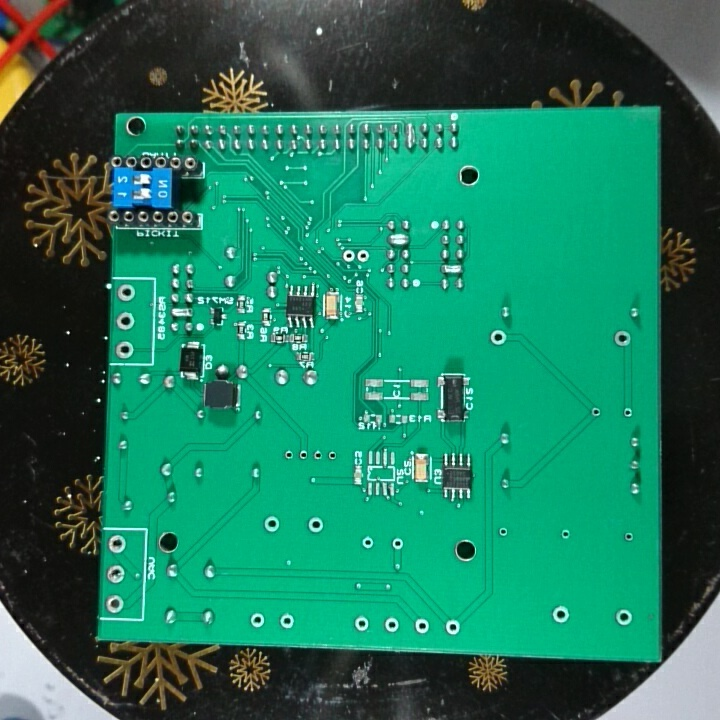F: (106, 532, 130, 558), (105, 561, 129, 587), (611, 606, 639, 628), (113, 308, 137, 332), (105, 592, 129, 615), (440, 615, 466, 636), (114, 336, 136, 360), (548, 605, 573, 626), (486, 329, 512, 349), (613, 330, 636, 352), (352, 612, 372, 637), (116, 284, 138, 306), (307, 513, 326, 538), (381, 615, 404, 635), (410, 615, 430, 637), (277, 610, 299, 629), (264, 513, 285, 532), (250, 612, 269, 629), (355, 246, 371, 265), (340, 248, 357, 265), (361, 534, 376, 552), (282, 447, 296, 466), (310, 447, 324, 466), (621, 529, 636, 546), (389, 535, 404, 552), (619, 404, 636, 419), (325, 447, 339, 465), (496, 524, 509, 543), (590, 402, 604, 419), (560, 525, 573, 543), (297, 447, 310, 465)
P: (387, 232, 416, 249), (403, 120, 418, 152), (439, 261, 470, 275), (170, 305, 196, 320)
